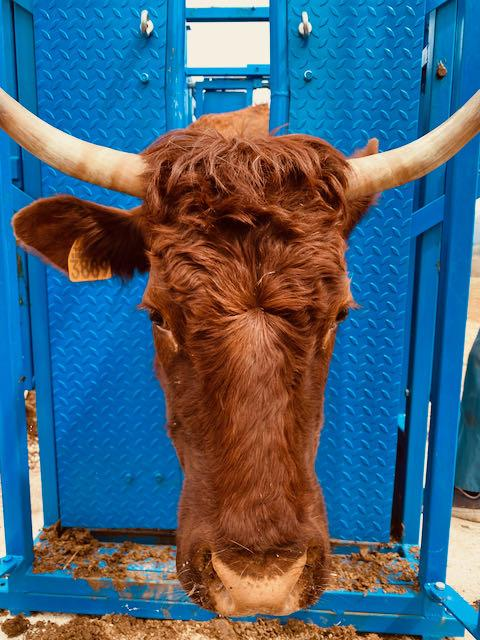muzzles: (169, 527, 333, 624)
